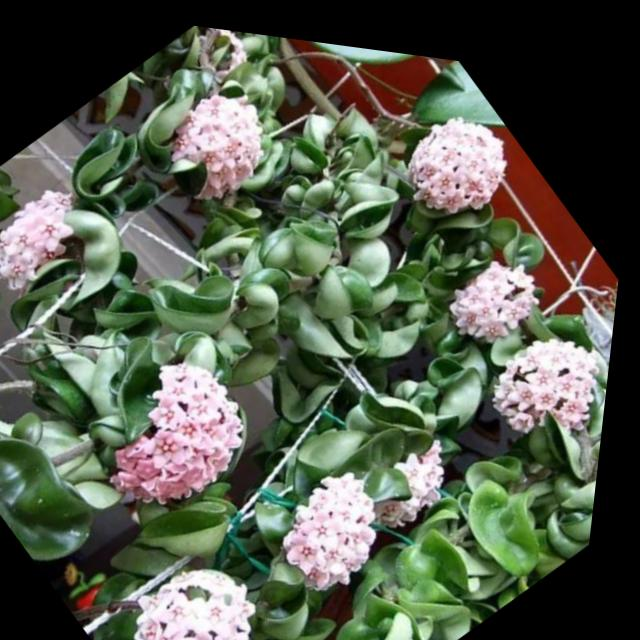Flower: (61, 316, 295, 552), (260, 436, 421, 598), (146, 58, 302, 216), (117, 520, 314, 640), (477, 282, 620, 444), (383, 81, 534, 234), (431, 217, 560, 348), (0, 167, 106, 308), (374, 415, 484, 526)
